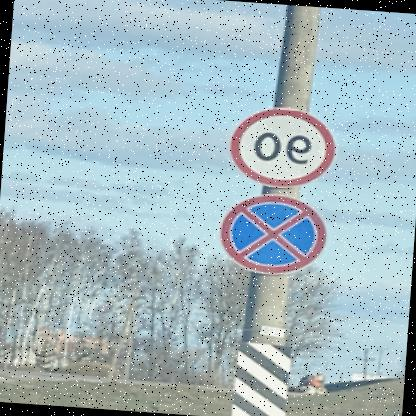speedlimit: (230, 104, 341, 190)
